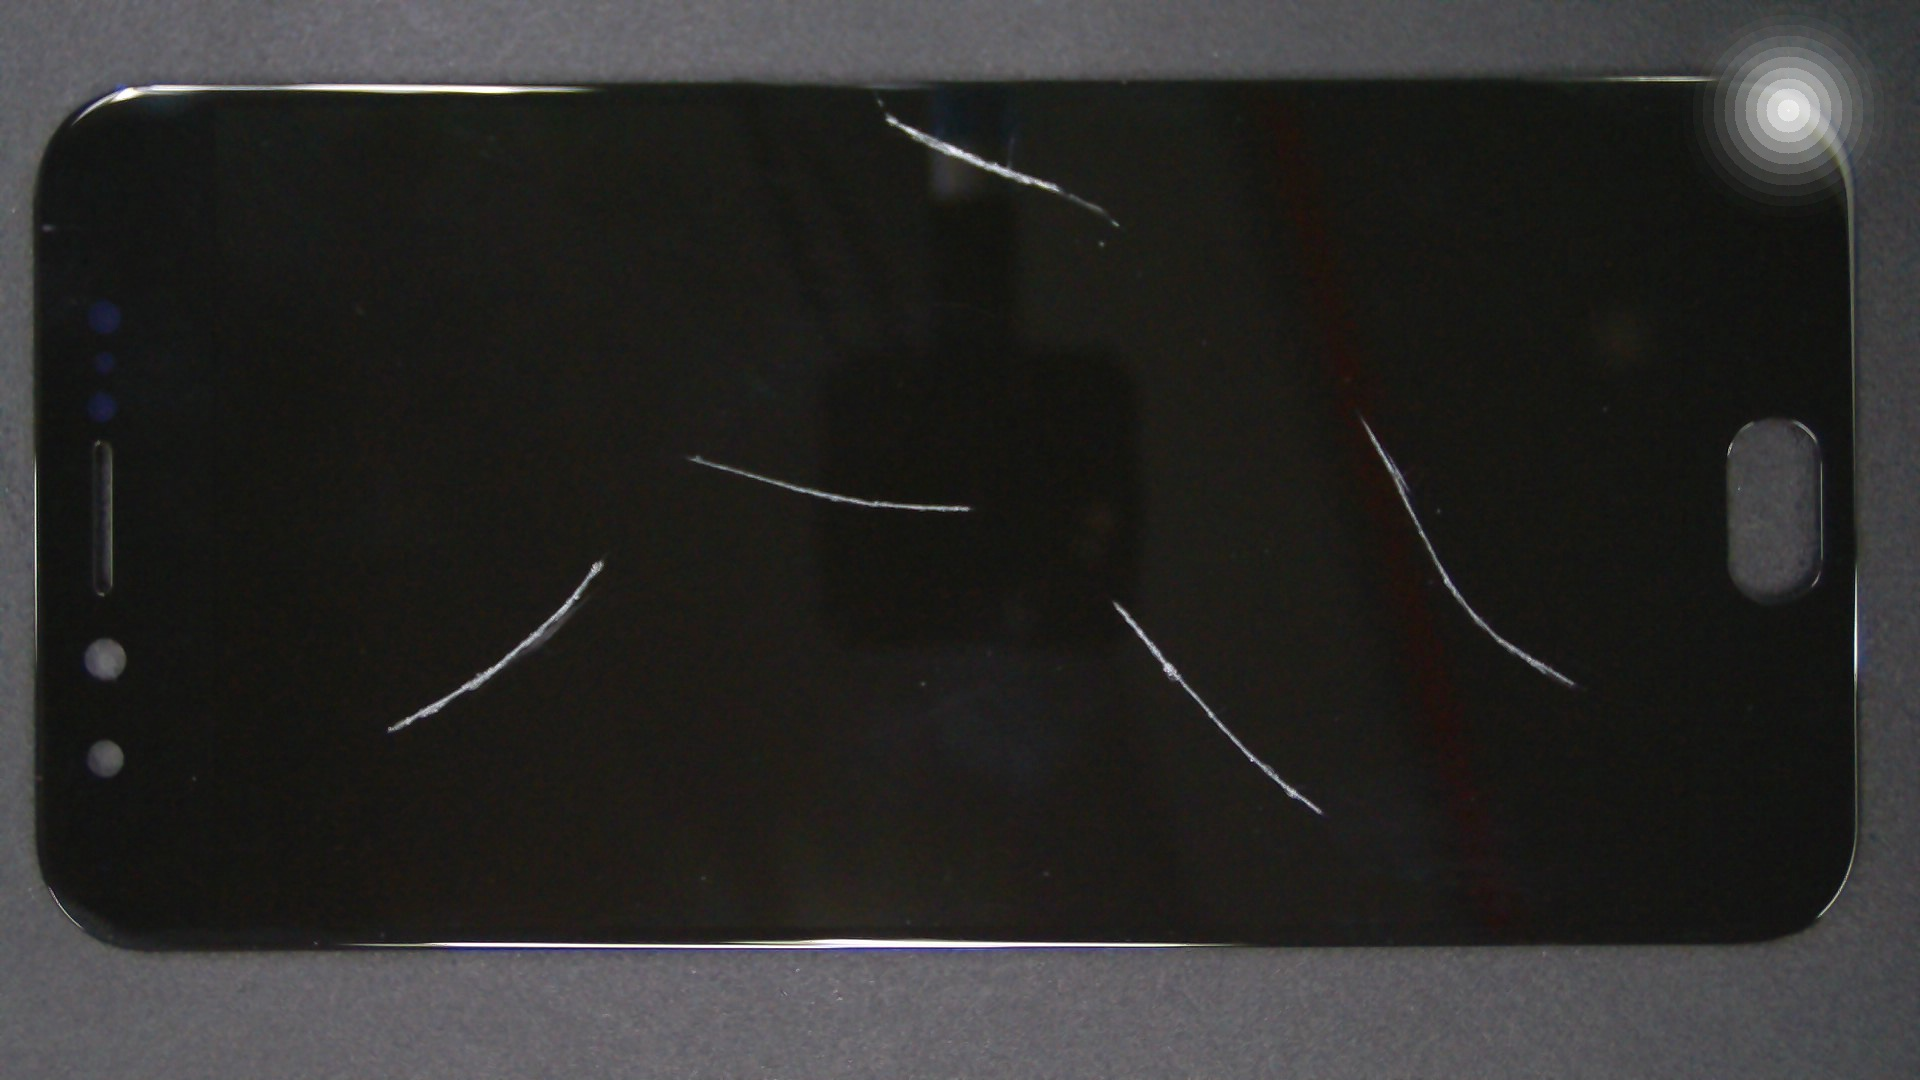oil: (556, 299, 1669, 901), (680, 207, 1920, 625), (301, 280, 898, 843), (349, 227, 1044, 683), (439, 46, 1317, 150)
